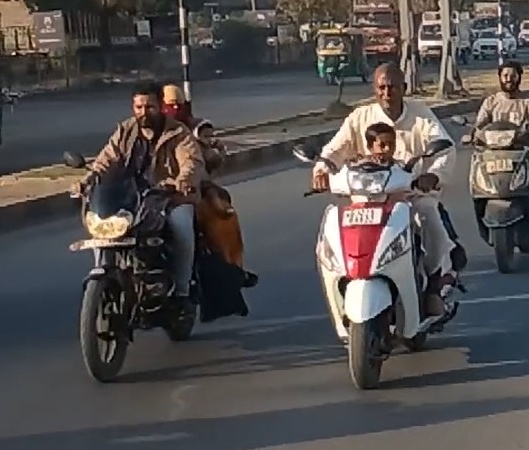BikeWithRider: (55, 75, 263, 387), (286, 56, 473, 391), (450, 56, 528, 277)
NoHelmet: (365, 59, 413, 113), (124, 79, 169, 131), (358, 119, 401, 162), (157, 81, 194, 123), (493, 58, 526, 96), (192, 117, 220, 149)
